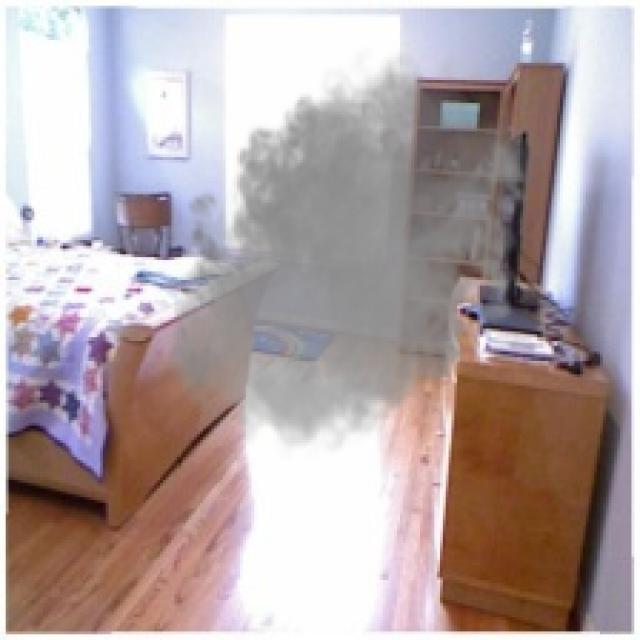Smoke: (163, 40, 540, 460)
